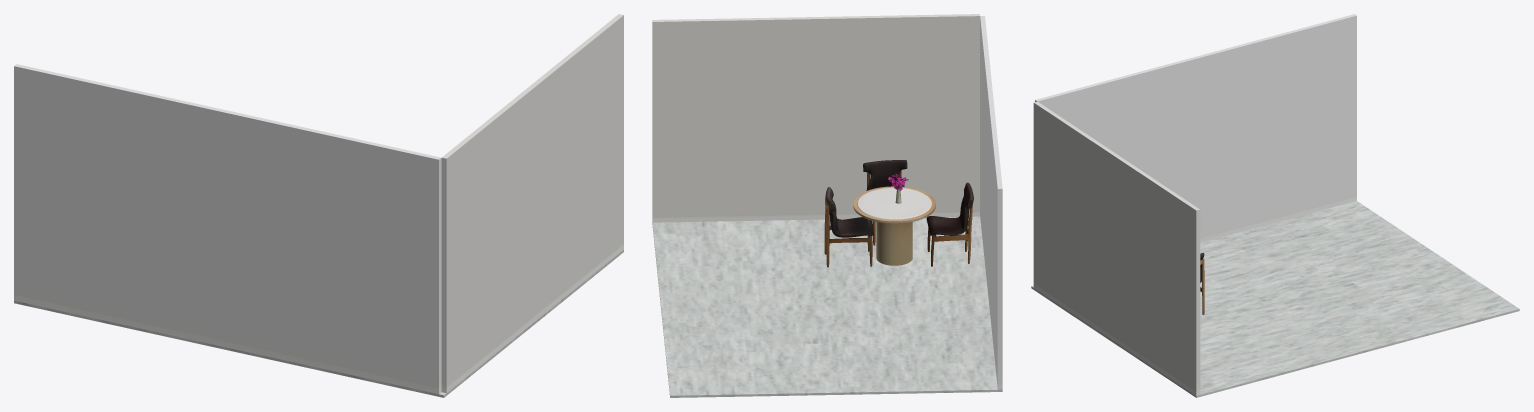
File: ours.glb
3 renders of one model, left to right at view 1: azimuth 30°, elevation 25°; view 2: azimuth 150°, elevation 25°; view 3: azimuth 270°, elevation 25°, orthographic. The views are drawn at different scales.
Visible parts, largest first — view 1: wall_2, wall_0, floor_0; view 2: wall_0, floor_0, wall_2, obj_table_0, obj_chair_0, obj_chair_2, obj_chair_1; view 3: wall_2, floor_0, wall_0.
Part boxes in pixels (x1=…): wall_2: x1=14, y1=64, x2=441, y2=394; wall_0: x1=441, y1=14, x2=623, y2=392; floor_0: x1=14, y1=250, x2=623, y2=397; wall_0: x1=652, y1=14, x2=979, y2=222; floor_0: x1=652, y1=216, x2=1002, y2=397; wall_2: x1=980, y1=16, x2=1002, y2=389; obj_table_0: x1=853, y1=186, x2=935, y2=265; obj_chair_0: x1=824, y1=187, x2=874, y2=267; obj_chair_2: x1=926, y1=182, x2=973, y2=266; obj_chair_1: x1=863, y1=160, x2=907, y2=245; wall_2: x1=1035, y1=14, x2=1356, y2=242; floor_0: x1=1031, y1=201, x2=1519, y2=397; wall_0: x1=1033, y1=101, x2=1200, y2=395.
Size of the model in its own units: 6.14 by 2.73 by 6.45.
Materials: 8 (8 with a texture image).
